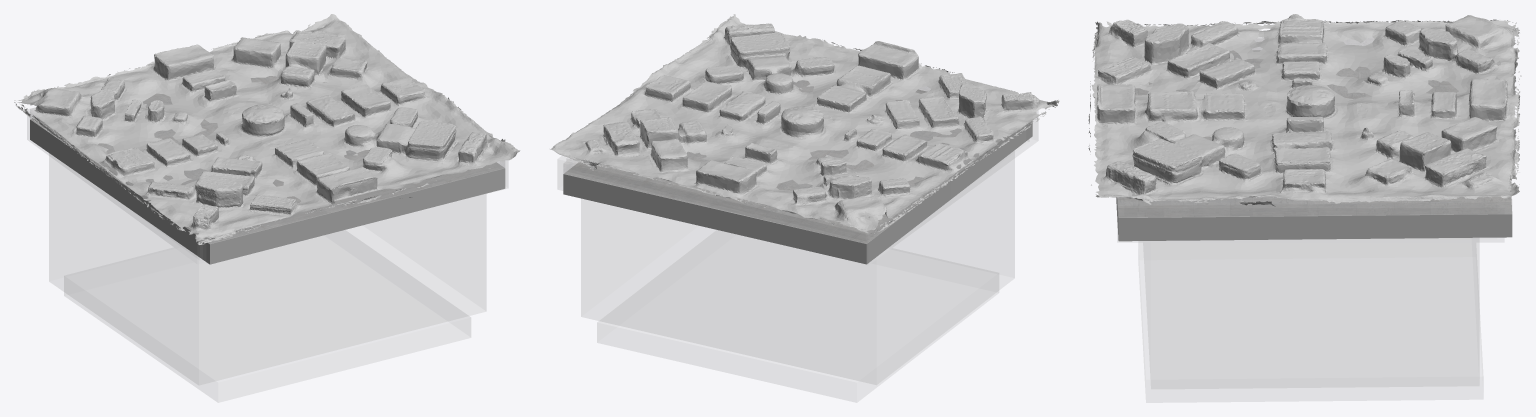
The model's file is farmakio pisw dejia.fbx.
3 renders of one model, left to right at view 1: azimuth 30°, elevation 25°; view 2: azimuth 150°, elevation 25°; view 3: azimuth 270°, elevation 25°, orthographic. The views are drawn at different scales.
Visible parts, largest first — view 1: Φαρμακειο πισω δεξια, housing, basis, travertine, top, epoxy resin; view 2: Φαρμακειο πισω δεξια, housing, basis, travertine, epoxy resin, top; view 3: Φαρμακειο πισω δεξια, basis, housing, travertine, top, epoxy resin.
Boxes of the visible parts, x1=… form: Φαρμακειο πισω δεξια: x1=14, y1=14, x2=520, y2=244; housing: x1=49, y1=154, x2=485, y2=384; basis: x1=64, y1=230, x2=470, y2=402; travertine: x1=30, y1=76, x2=505, y2=264; top: x1=27, y1=108, x2=507, y2=263; epoxy resin: x1=30, y1=76, x2=504, y2=243; Φαρμακειο πισω δεξια: x1=550, y1=14, x2=1059, y2=233; housing: x1=581, y1=151, x2=1014, y2=384; basis: x1=597, y1=230, x2=998, y2=402; travertine: x1=563, y1=80, x2=1032, y2=264; epoxy resin: x1=564, y1=80, x2=1000, y2=242; top: x1=558, y1=87, x2=1037, y2=264; Φαρμακειο πισω δεξια: x1=1088, y1=14, x2=1521, y2=206; basis: x1=1139, y1=241, x2=1482, y2=402; housing: x1=1143, y1=238, x2=1478, y2=388; travertine: x1=1116, y1=50, x2=1512, y2=241; top: x1=1117, y1=38, x2=1503, y2=241; epoxy resin: x1=1118, y1=37, x2=1511, y2=216.
Size of the model in its own units: 85.31 by 51.55 by 84.65.
